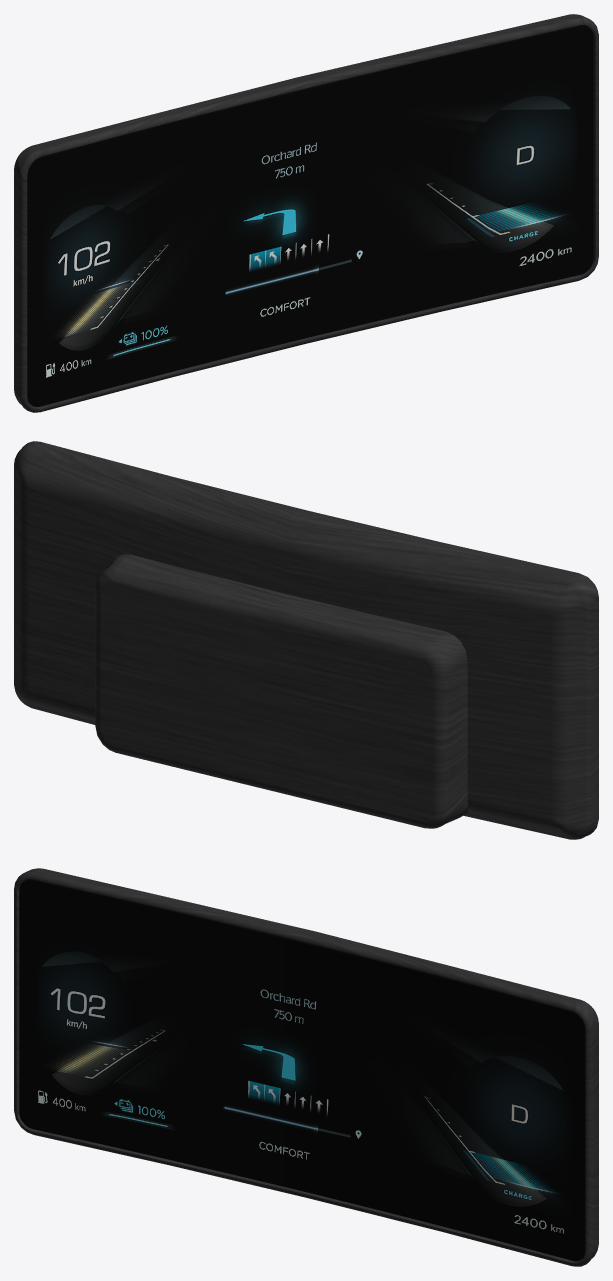
Rendered from MID_3.fbx.
3 renders of one model, top to bottom at view 1: azimuth 30°, elevation 25°; view 2: azimuth 150°, elevation 25°; view 3: azimuth 330°, elevation 25°, orthographic.
Parts seen in each view (by area): view 1: MID_option3; view 2: MID_option3; view 3: MID_option3.
Part boxes in pixels (x1,y1,x2,y2): MID_option3: (14, 14, 598, 412); MID_option3: (14, 441, 598, 839); MID_option3: (14, 868, 598, 1266).
Size of the model in its own units: 24.71 by 10.71 by 3.27.
Materials: 1 (1 with a texture image).
